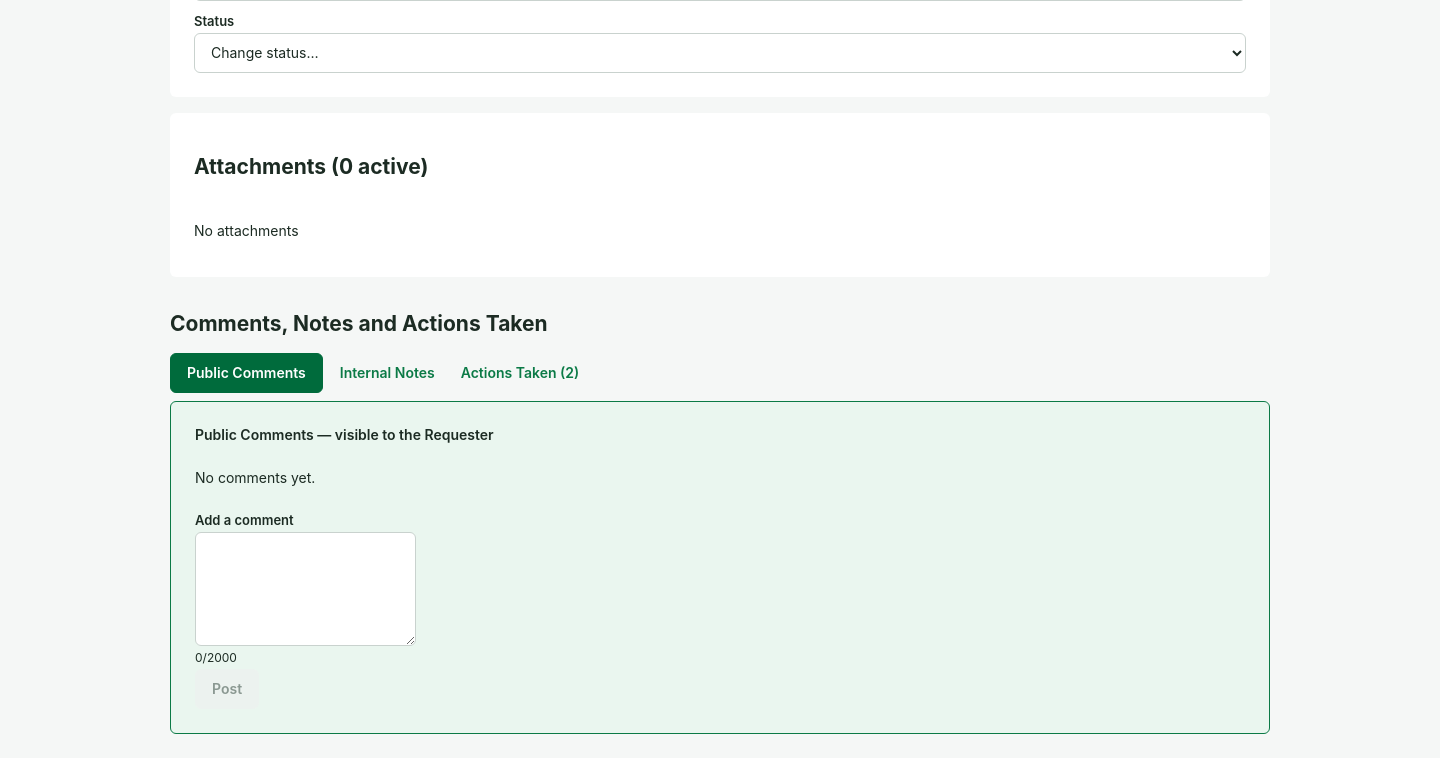
Actions Taken style rules (ui-spec.md §2, §4.3, §6) › renders the create form above the list, a pencil on Edit and a paperclip on attachment notes
The width and height of the screenshot is (1440, 758).
(page scrolled)
Click the tab "Actions Taken (2)".
click(520, 373)  # box [452,353,588,393]
(page scrolled)
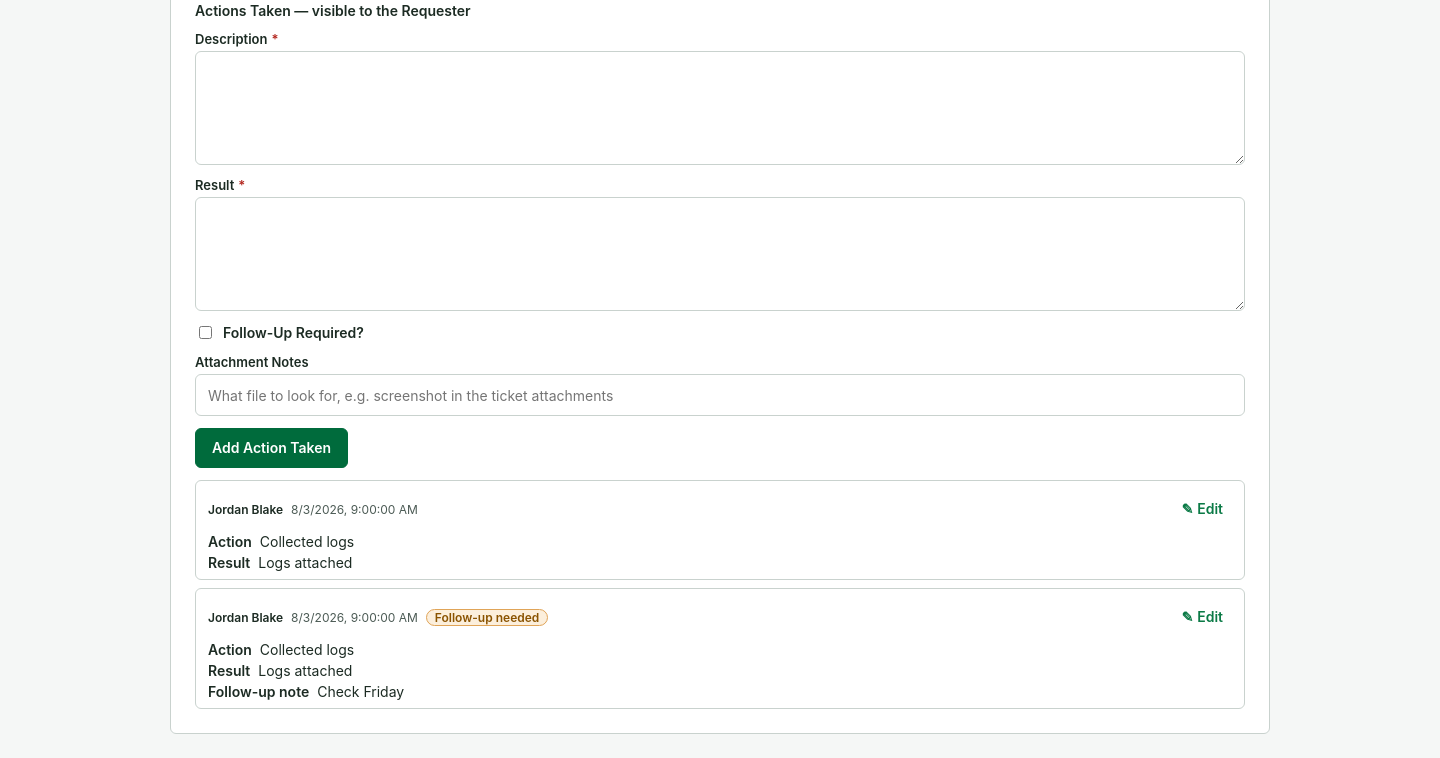
Check: the 1st text "✎" is shown, box [1181,502,1193,516]
Check: the button with aria-label "Edit this action" shows "Edit", box [1172,489,1232,529]
